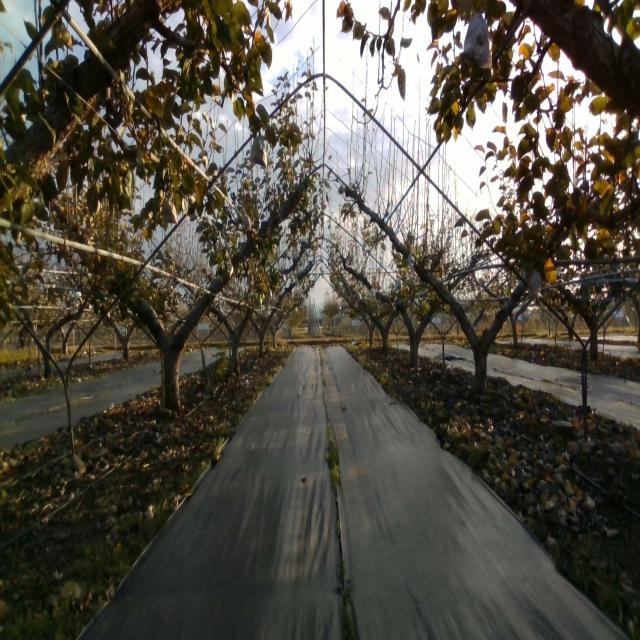pearbags: (464, 5, 492, 70), (249, 130, 268, 170), (160, 198, 178, 226), (528, 268, 542, 300), (242, 210, 252, 232)
